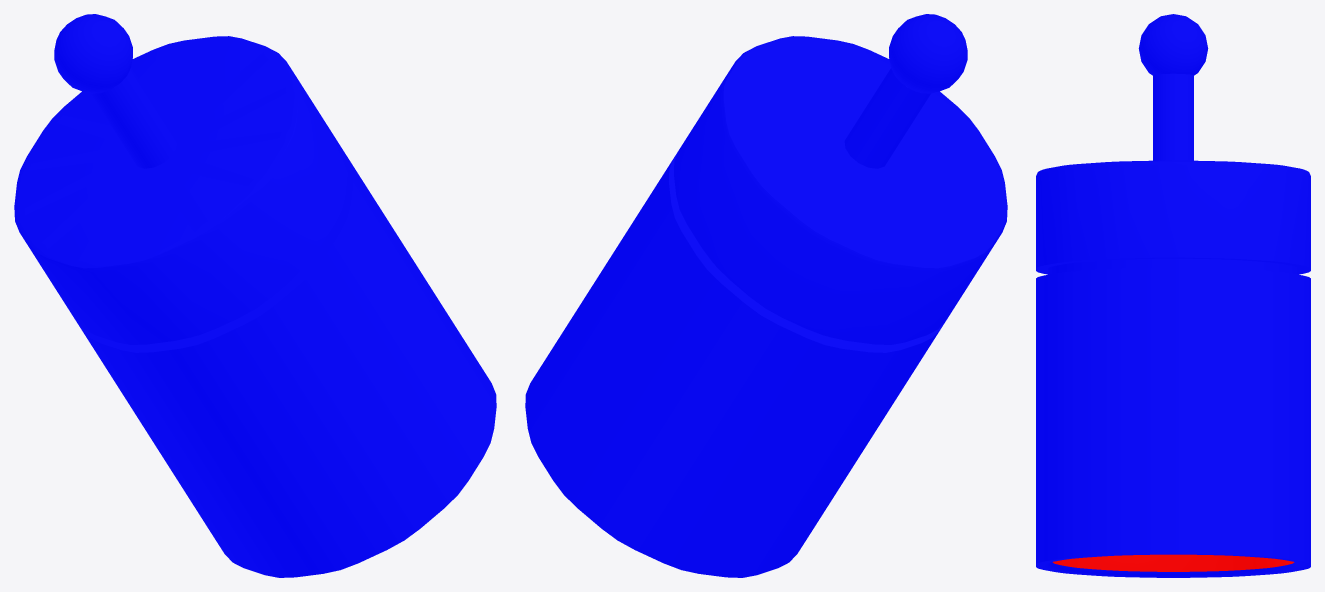
File: B_Lampe_2.fbx
3 renders of one model, left to right at view 1: azimuth 30°, elevation 25°; view 2: azimuth 150°, elevation 25°; view 3: azimuth 270°, elevation 25°, orthographic. The views are drawn at different scales.
Parts seen in each view (by area): view 1: Lampe2; view 2: Lampe2; view 3: Lampe2.
Boxes of the visible parts, bbox=[...] form: Lampe2: bbox=[14, 14, 496, 577]; Lampe2: bbox=[525, 14, 1007, 577]; Lampe2: bbox=[1036, 14, 1310, 577].
Bounding box in the file's own units: 20.74 × 26.31 × 13.07.
